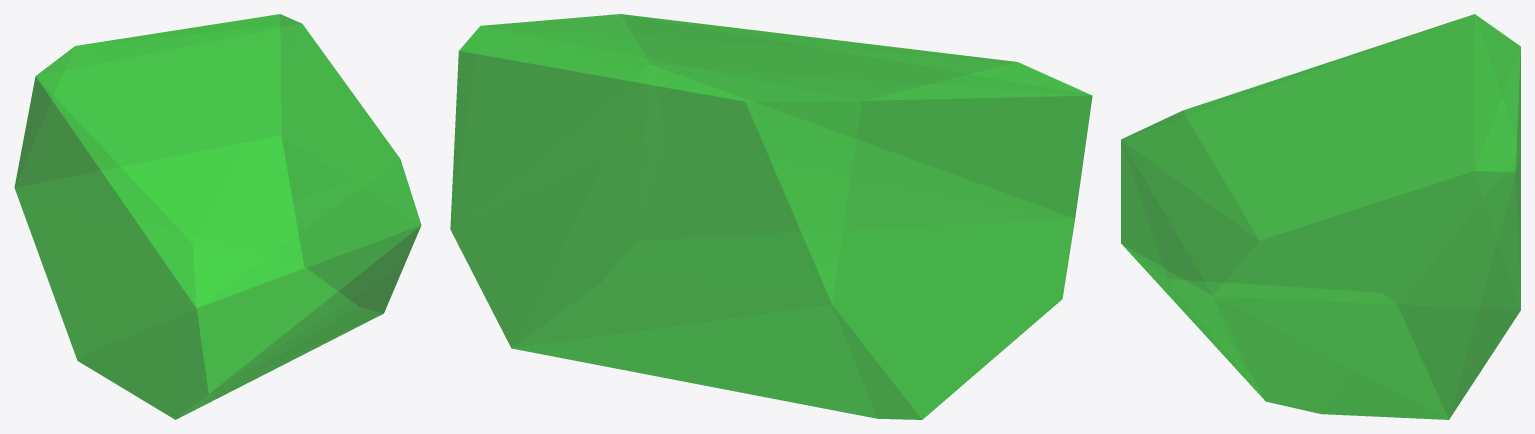
3 renders of one model, left to right at view 1: azimuth 30°, elevation 25°; view 2: azimuth 150°, elevation 25°; view 3: azimuth 270°, elevation 25°, orthographic. The views are drawn at different scales.
Parts seen in each view (by area): view 1: Shape_IndexedFaceSet.034_Shape_IndexedFaceSet.18010; view 2: Shape_IndexedFaceSet.034_Shape_IndexedFaceSet.18010; view 3: Shape_IndexedFaceSet.034_Shape_IndexedFaceSet.18010.
Boxes of the visible parts, x1,y1,x2,y2 form: Shape_IndexedFaceSet.034_Shape_IndexedFaceSet.18010: (14, 14, 421, 419); Shape_IndexedFaceSet.034_Shape_IndexedFaceSet.18010: (450, 14, 1092, 419); Shape_IndexedFaceSet.034_Shape_IndexedFaceSet.18010: (1121, 14, 1520, 419).
Size of the model in its own units: 0.1672 by 0.1519 by 0.1976.
